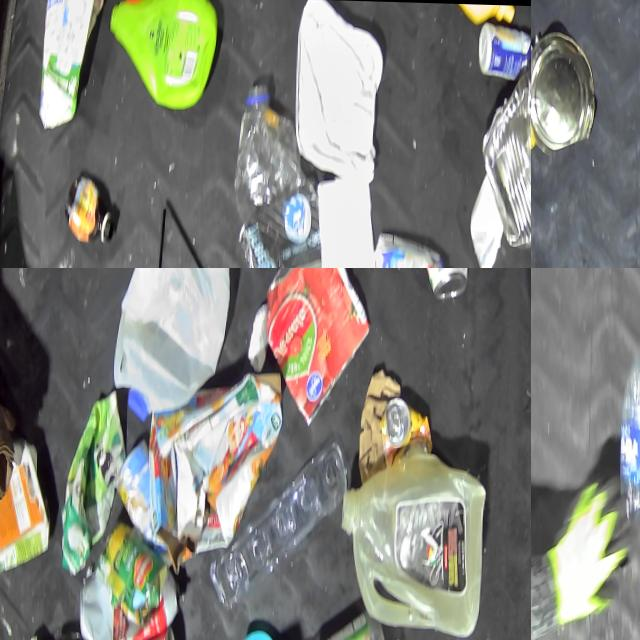can: (264, 268, 372, 425), (478, 57, 531, 249), (531, 28, 598, 153), (104, 517, 170, 624), (380, 395, 433, 459), (419, 268, 470, 297), (116, 621, 181, 640), (56, 627, 97, 640)
milk_jug: (342, 453, 488, 635), (113, 268, 231, 422)
non_white_jug: (147, 373, 284, 574), (106, 0, 219, 113), (64, 389, 130, 576), (38, 0, 105, 130), (374, 222, 453, 268), (425, 0, 514, 23)
plastic_bottle: (233, 78, 327, 268), (619, 310, 640, 517)
